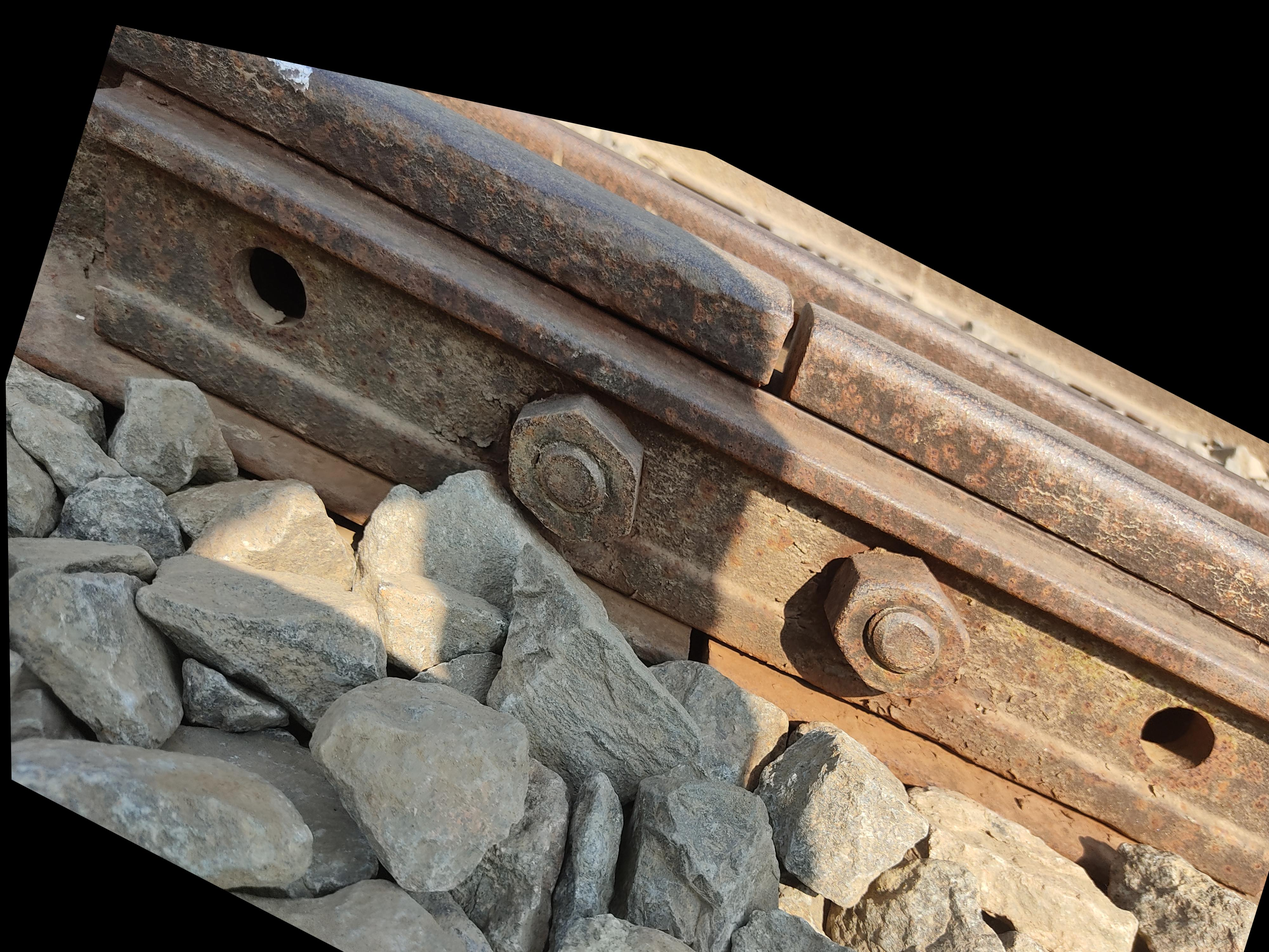person: (838, 143, 1054, 293)
